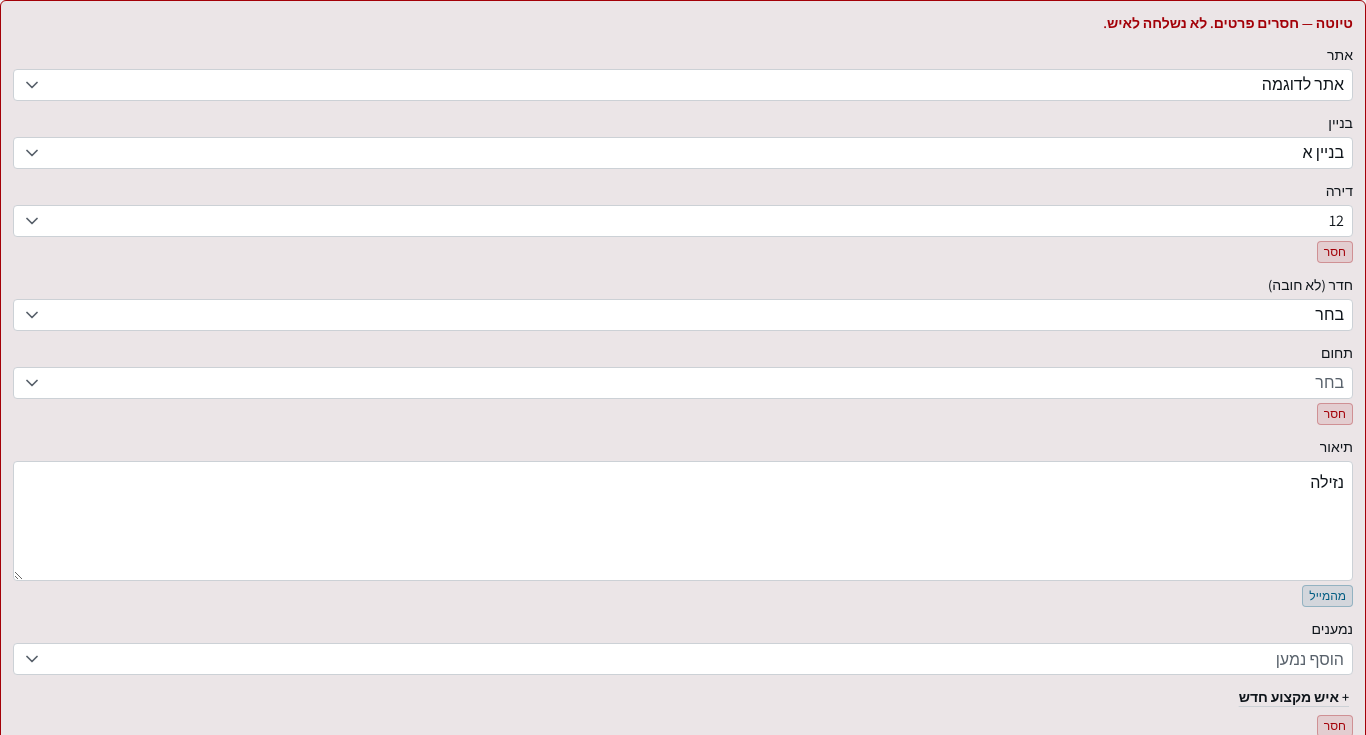
Test: ChannelDraftCompletion — שמירה › בזמן ששמירה בדרך בורר הנמענים נעול — שינוי שני היה נושא טביעה ישנה ונדחה
The image size is (1366, 735).
Click the button "בניין א" at (1323, 153), box [13,137,1353,169]
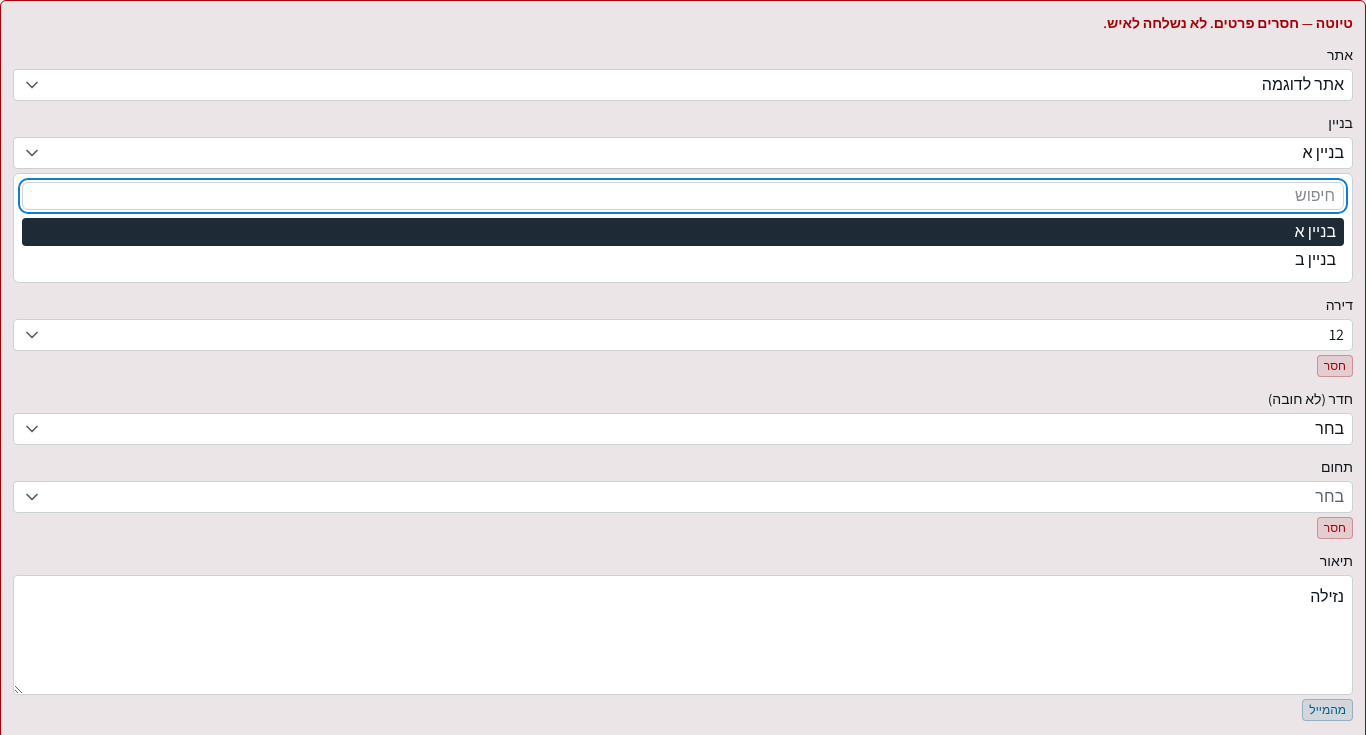
Click the option "בניין ב" at (1315, 260), box [22,246,1344,274]
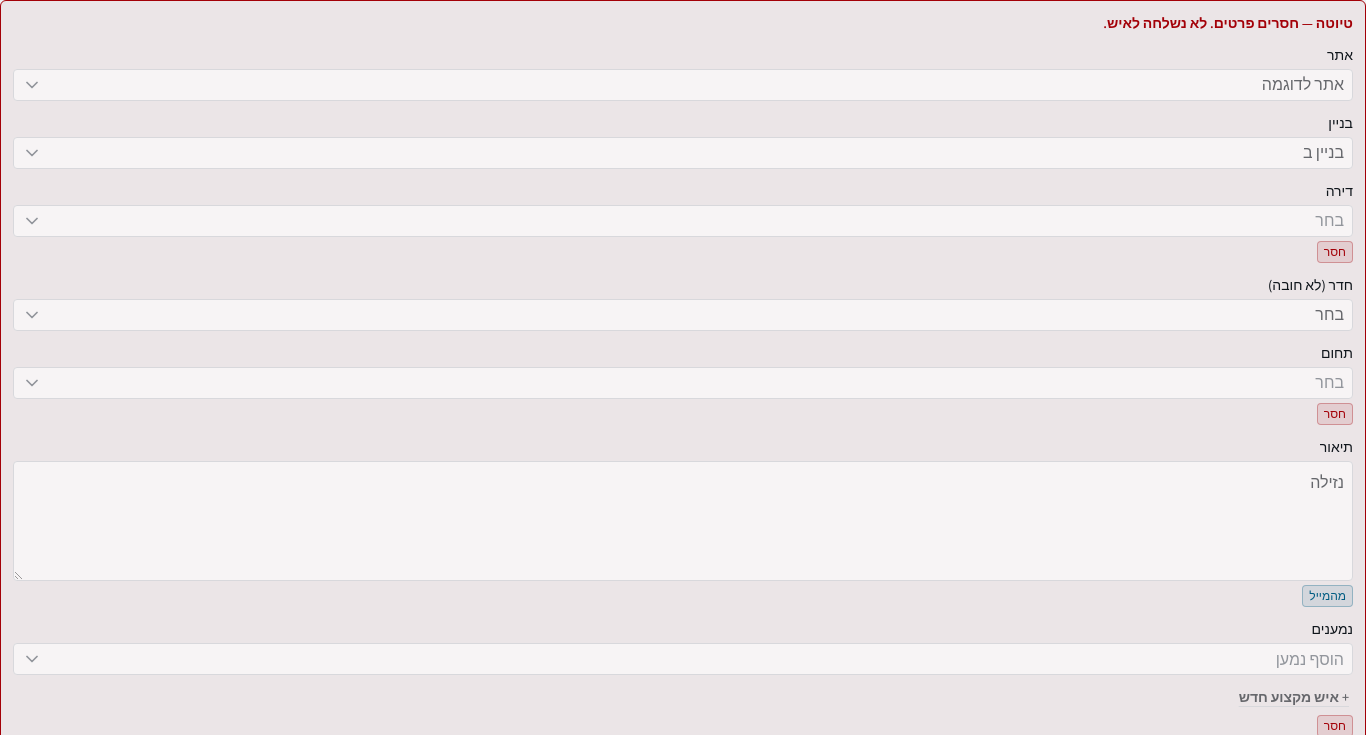
Result: the button named "נמענים" is disabled at [13,643,1353,675]
